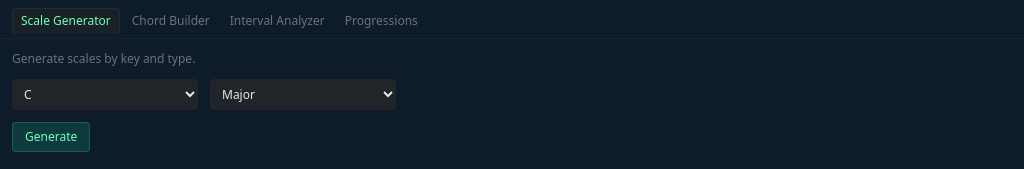
Scenario: MusicTheoryPanel › switches to Progressions on click
What coordinates should you click on to do the following:
click the button "Progressions"
I would click on:
 (381, 21)
Its box is [337,8,426,34].
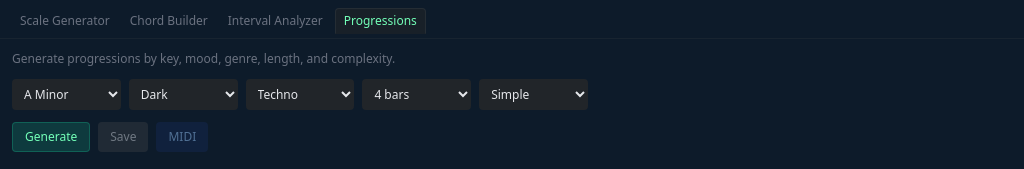
Check: the text "Generate progressions by key, mood, genre, length, and complexity." is shown, box [12,50,395,67]
